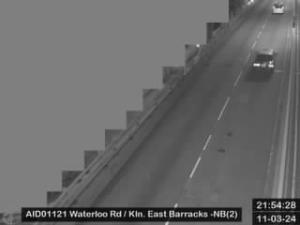vehicle: (252, 48, 278, 74), (274, 2, 284, 14)
